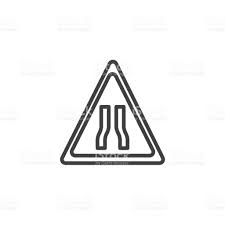Narrow_road: (59, 57, 165, 165)
